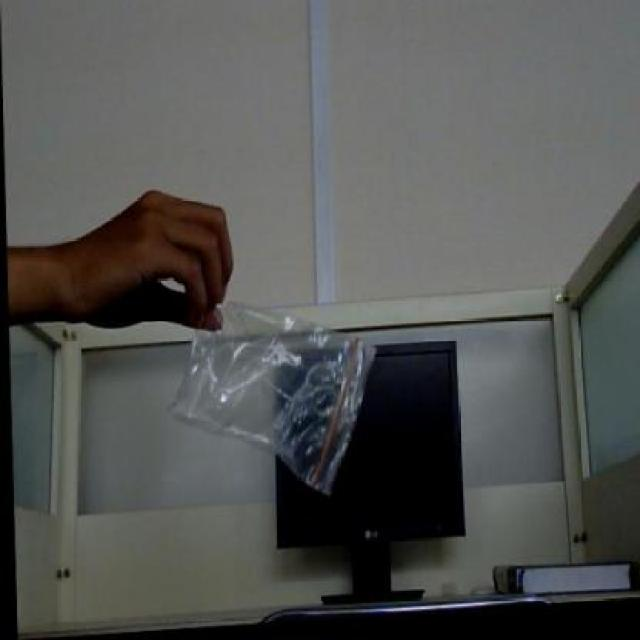Plastic: (168, 287, 382, 498)
